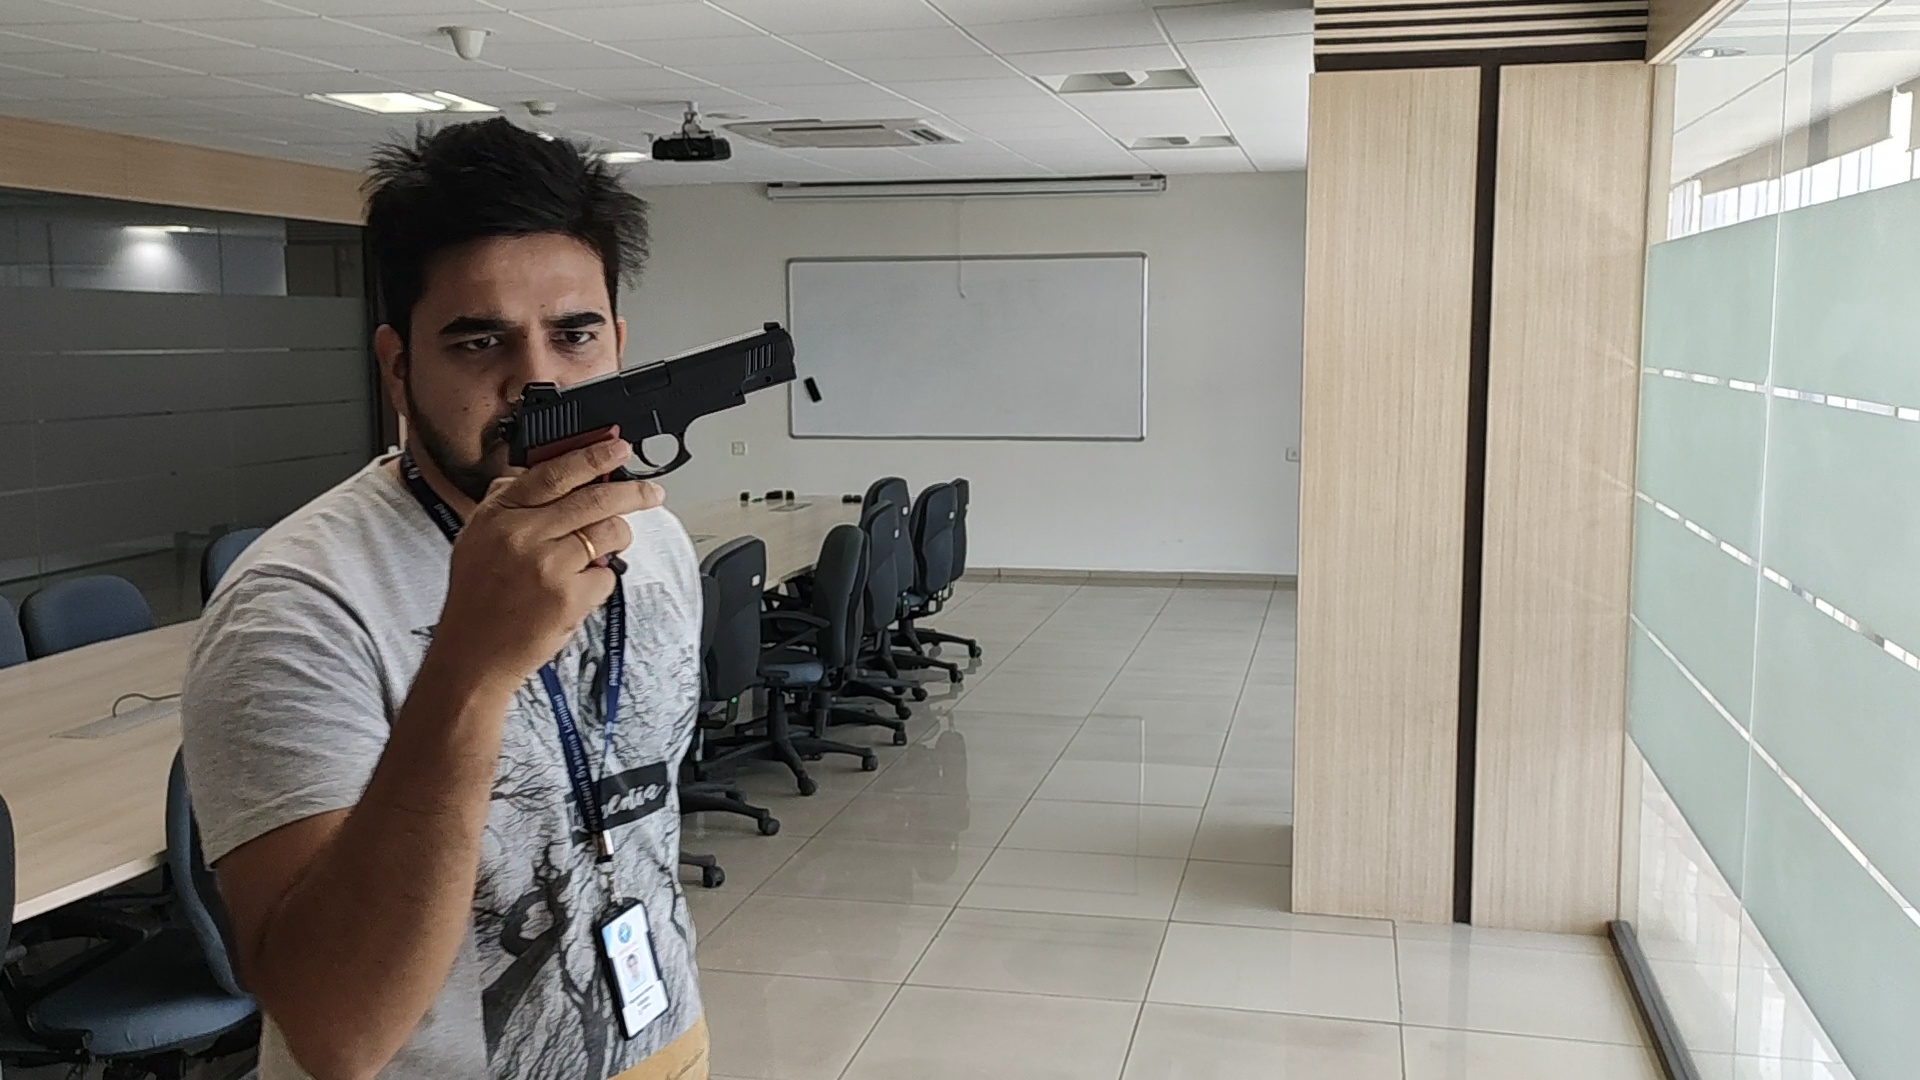gun: (498, 323, 800, 438)
